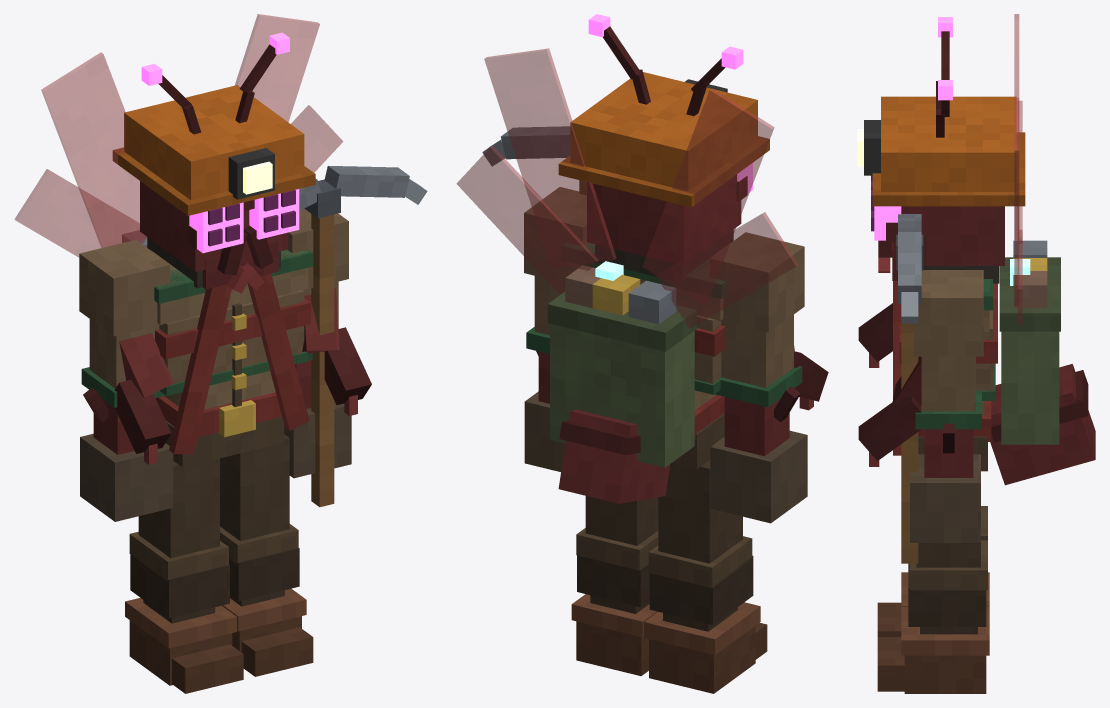
File: insectoid_mineur_v2.glb
The picture shows the model from 3 angles, left to right: view 1: azimuth 30°, elevation 25°; view 2: azimuth 150°, elevation 25°; view 3: azimuth 270°, elevation 25°; orthographic projection. The views are drawn at different scales.
Visible parts, largest first — view 1: Torso, Head, LegR, ArmR, LegL, HandL, ArmL; view 2: Torso, Head, ArmR, LegR, LegL, ArmL, HandL; view 3: Torso, Head, ArmL, LegL, HandL, LegR.
Boxes of the visible parts, <box> form: Torso: <box>14,14,371,467</box>; Head: <box>112,32,315,293</box>; LegR: <box>125,458,243,693</box>; ArmR: <box>79,239,173,521</box>; LegL: <box>220,434,313,676</box>; HandL: <box>299,165,427,507</box>; ArmL: <box>284,208,351,478</box>; Torso: <box>456,48,828,503</box>; Head: <box>558,14,769,282</box>; ArmR: <box>710,232,807,523</box>; LegR: <box>644,460,767,693</box>; LegL: <box>571,496,658,675</box>; ArmL: <box>524,187,587,471</box>; HandL: <box>482,126,586,195</box>; Torso: <box>858,14,1095,485</box>; Head: <box>857,17,1025,283</box>; ArmL: <box>910,270,983,542</box>; LegL: <box>877,540,989,693</box>; HandL: <box>896,214,923,563</box>; LegR: <box>877,506,989,636</box>.
Bounding box in the file's own units: 1.22 × 1.98 × 0.7027.
42 materials, 42 textured.
